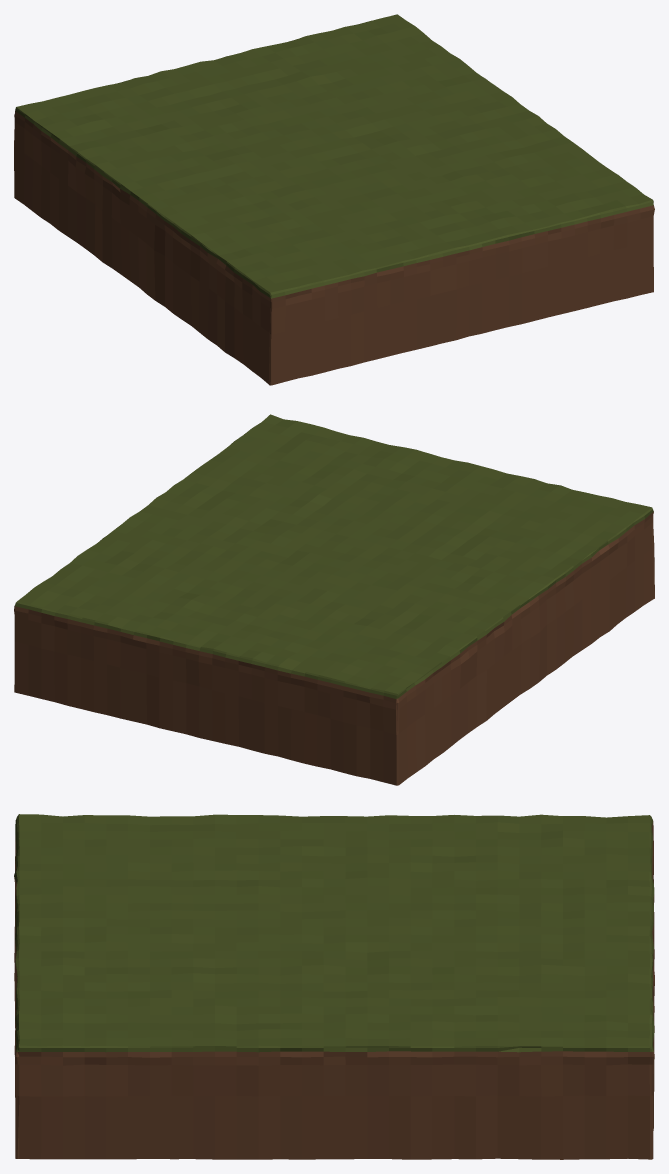
File: CubeLand.fbx
3 renders of one model, top to bottom at view 1: azimuth 30°, elevation 25°; view 2: azimuth 150°, elevation 25°; view 3: azimuth 270°, elevation 25°, orthographic. The views are drawn at different scales.
Parts seen in each view (by area): view 1: CubeLand; view 2: CubeLand; view 3: CubeLand.
Part boxes in pixels (x1=…): CubeLand: x1=14, y1=14, x2=654, y2=385; CubeLand: x1=14, y1=414, x2=654, y2=785; CubeLand: x1=14, y1=814, x2=654, y2=1159.
Bounding box in the file's own units: 28.17 × 6.42 × 32.63.
